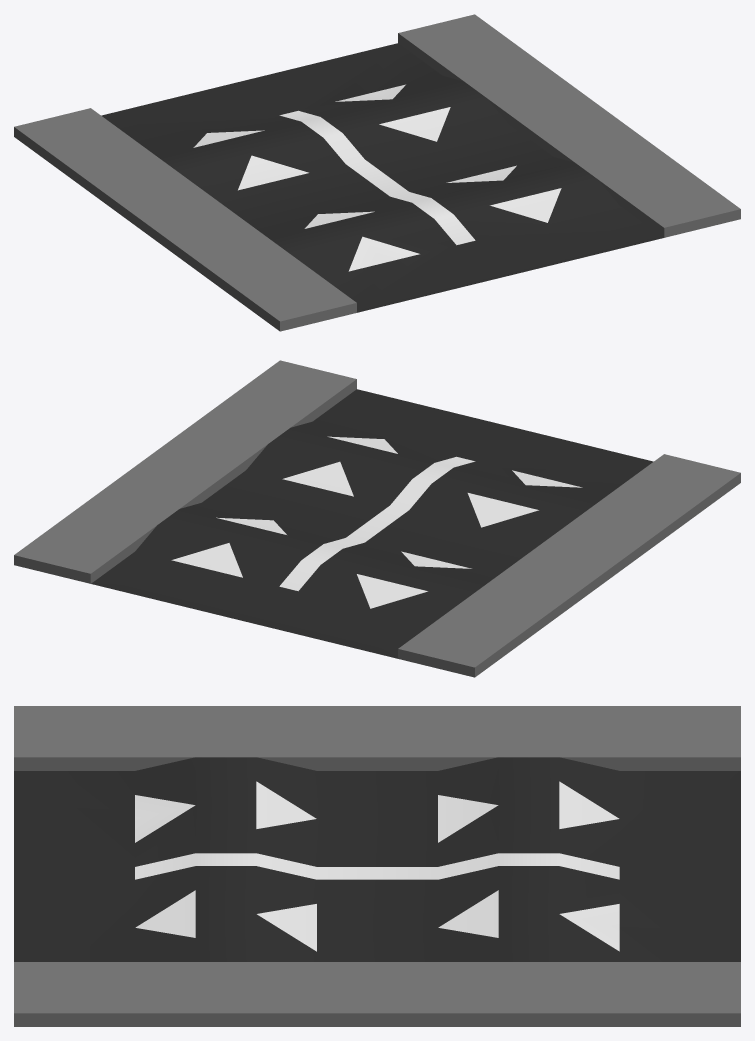
Rendered from RoadSpeedhumps.fbx.
3 renders of one model, top to bottom at view 1: azimuth 30°, elevation 25°; view 2: azimuth 150°, elevation 25°; view 3: azimuth 270°, elevation 25°, orthographic. The views are drawn at different scales.
Visible parts, largest first — view 1: RoadSpeedhumps; view 2: RoadSpeedhumps; view 3: RoadSpeedhumps.
Boxes of the visible parts, x1,y1,x2,y2 form: RoadSpeedhumps: (14, 14, 740, 331); RoadSpeedhumps: (14, 360, 740, 677); RoadSpeedhumps: (14, 706, 740, 1026).
Bounding box in the file's own units: 24 × 0.5 × 24.
Materials: 1 (1 with a texture image).
